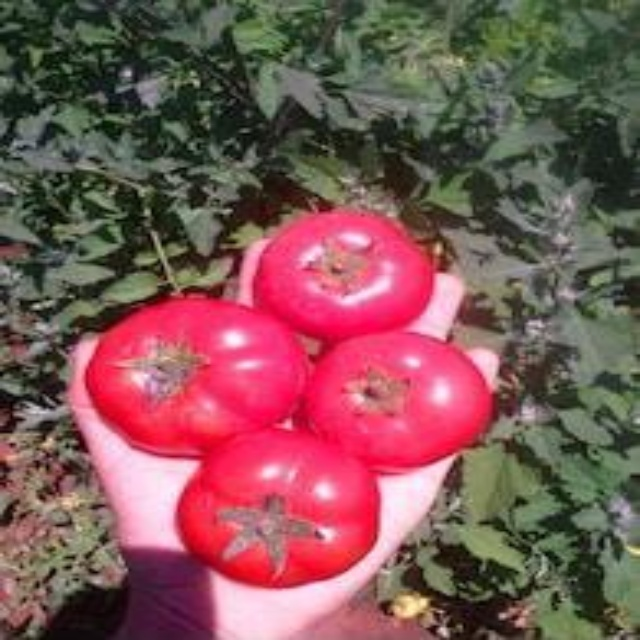tomato: (83, 286, 305, 446), (169, 434, 382, 580), (245, 194, 438, 341), (313, 327, 486, 464)
